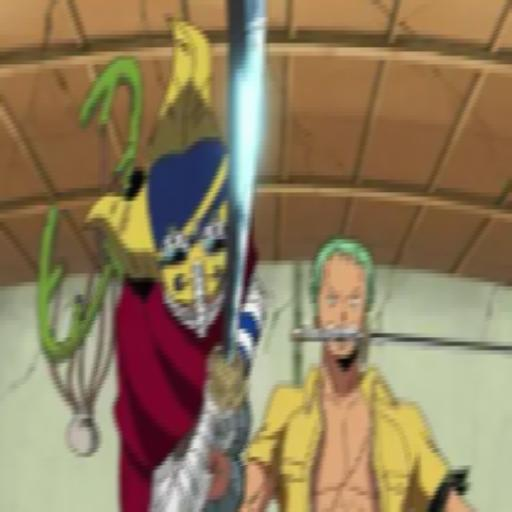Usopp: (75, 15, 272, 512)
Zoro: (240, 222, 480, 512)
